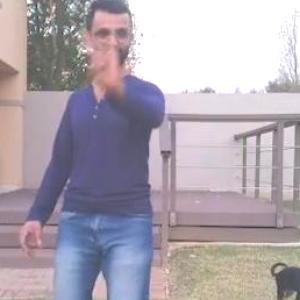takeoff-hand: (82, 26, 132, 90)
